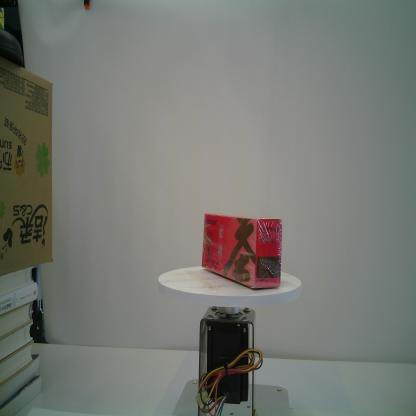Instant Drink: (202, 214, 283, 288)
